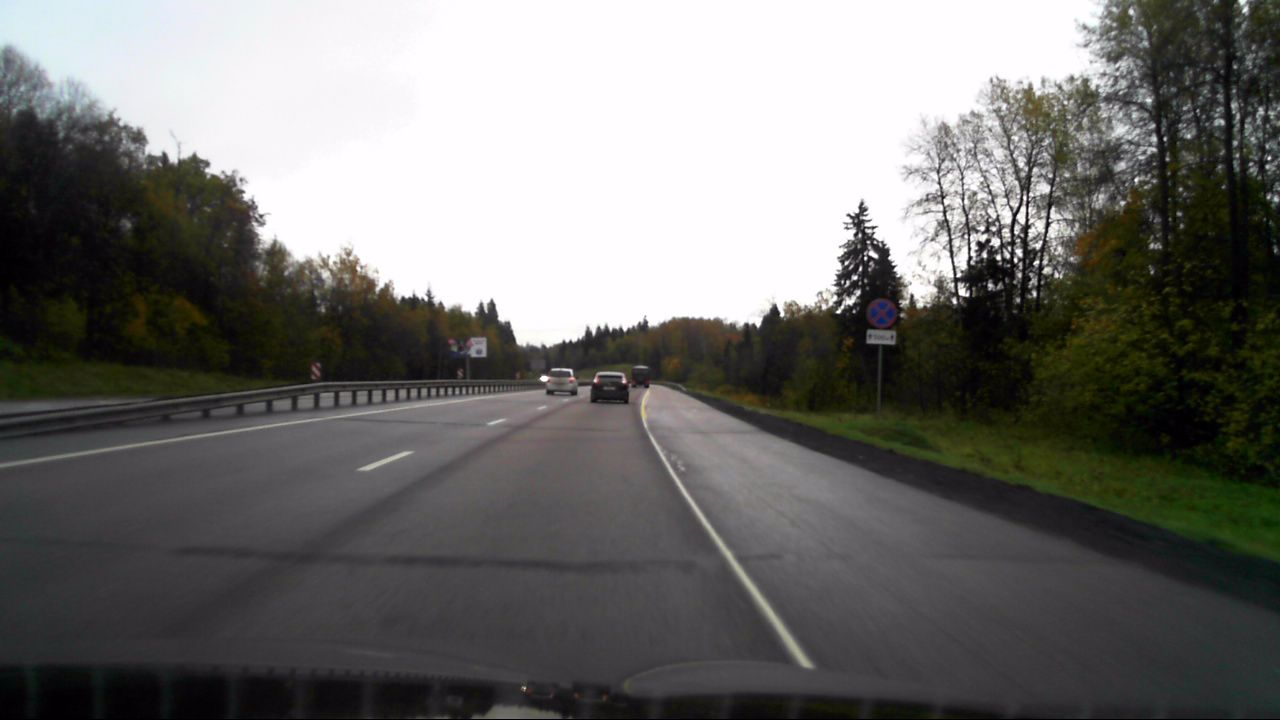No Parking: (866, 299, 897, 326)
